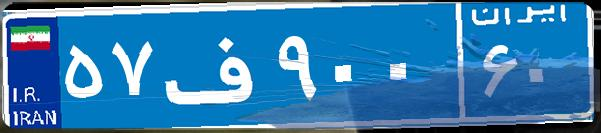0: (385, 28, 445, 110), (330, 28, 385, 110), (525, 38, 570, 115)
5: (57, 26, 110, 107)
6: (475, 38, 525, 113)
7: (110, 28, 158, 105)
9: (273, 28, 330, 110)
ف: (158, 15, 273, 115)
